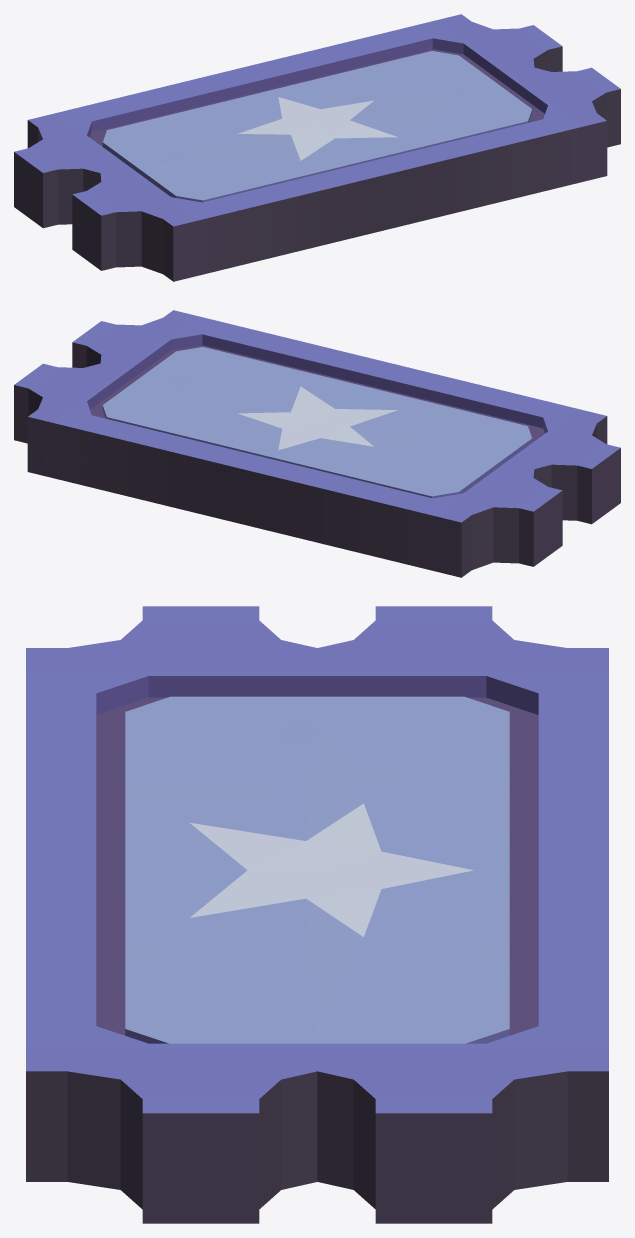
Rendered from SM_Ticket.fbx.
3 views of the same model, one above another, from view 1: azimuth 30°, elevation 25°; view 2: azimuth 150°, elevation 25°; view 3: azimuth 270°, elevation 25° (orthographic). The views are drawn at different scales.
Parts seen in each view (by area): view 1: SM_Ticket; view 2: SM_Ticket; view 3: SM_Ticket.
Part boxes in pixels (bbox=[...]): SM_Ticket: bbox=[14, 14, 620, 281]; SM_Ticket: bbox=[14, 310, 620, 577]; SM_Ticket: bbox=[26, 606, 608, 1223].
Bounding box in the file's own units: 94.34 × 9.59 × 45.81.
